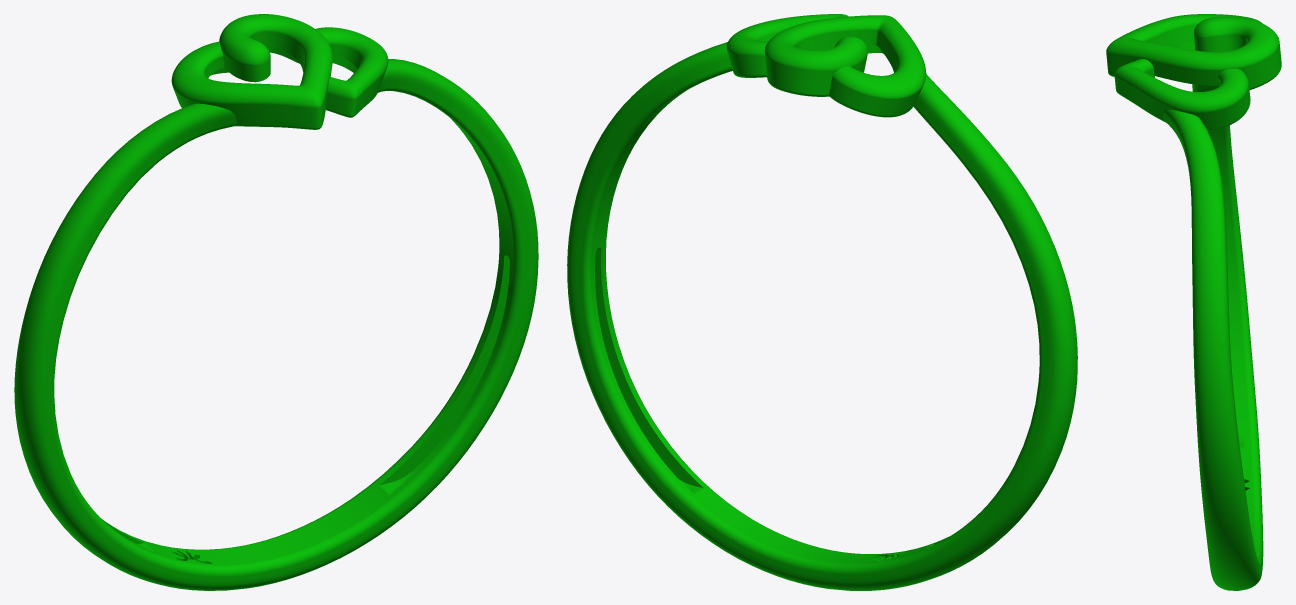
The picture shows the model from 3 angles, left to right: view 1: azimuth 30°, elevation 25°; view 2: azimuth 150°, elevation 25°; view 3: azimuth 270°, elevation 25°; orthographic projection. The views are drawn at different scales.
Parts seen in each view (by area): view 1: a.3dm; view 2: a.3dm; view 3: a.3dm.
Part boxes in pixels (x1,y1,x2,y2): a.3dm: (14,14,538,590); a.3dm: (567,14,1077,590); a.3dm: (1106,14,1281,590).
Bounding box in the file's own units: 2.73 × 2.8 × 0.8378.
